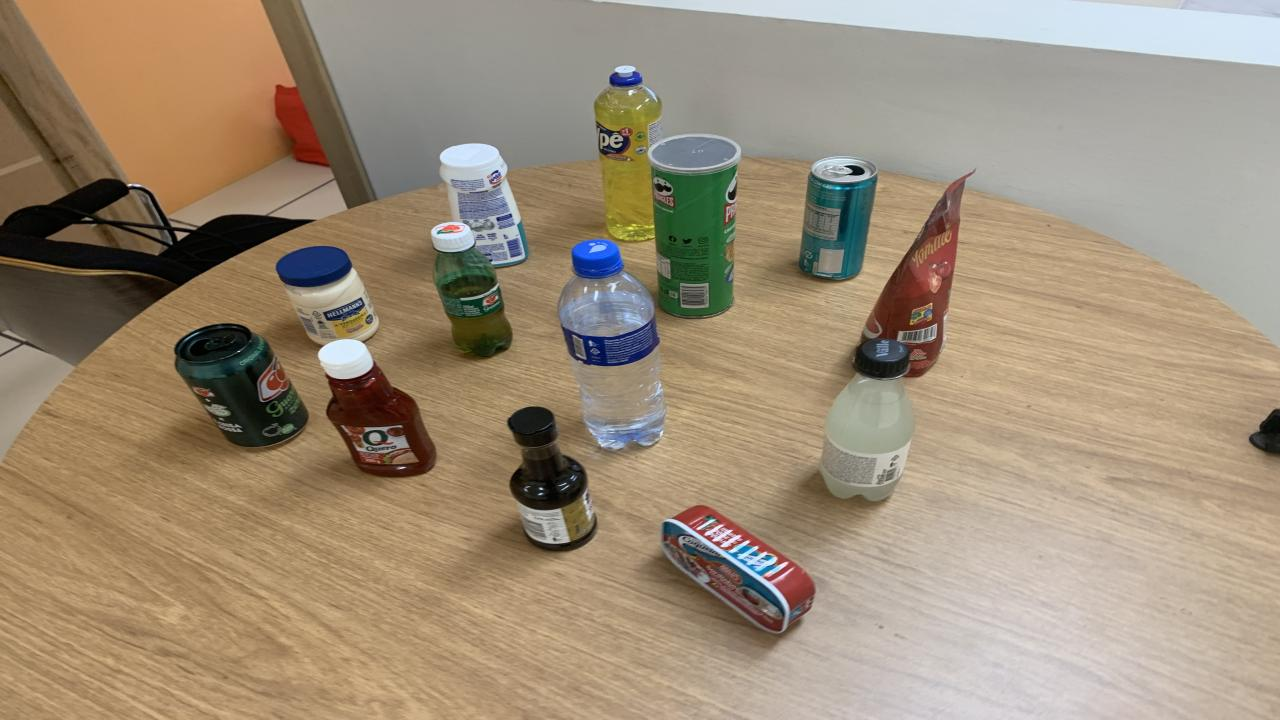Cleaner-Cleanup_Items: (440, 142, 528, 266)
Detergent-Cleanup_Items: (595, 66, 662, 242)
English_Sauce-Pantry_Items: (508, 407, 598, 551)
Guarana-Drinks: (432, 221, 512, 356)
Guarana_Can-Drinks: (175, 324, 308, 446)
Ketchup-Pantry_Items: (318, 339, 435, 476)
Mayonnaise-Pantry_Items: (275, 246, 378, 345)
Pringles-Snacks: (648, 135, 740, 317)
Soda-Drinks: (820, 338, 915, 501)
Tea-Drinks: (798, 156, 878, 279)
Tomato_Sauce-Pantry_Items: (862, 174, 970, 377)
Tuna_Can-Pantry_Items: (662, 506, 815, 634)
Water_Bottle-Drinks: (558, 240, 665, 448)
